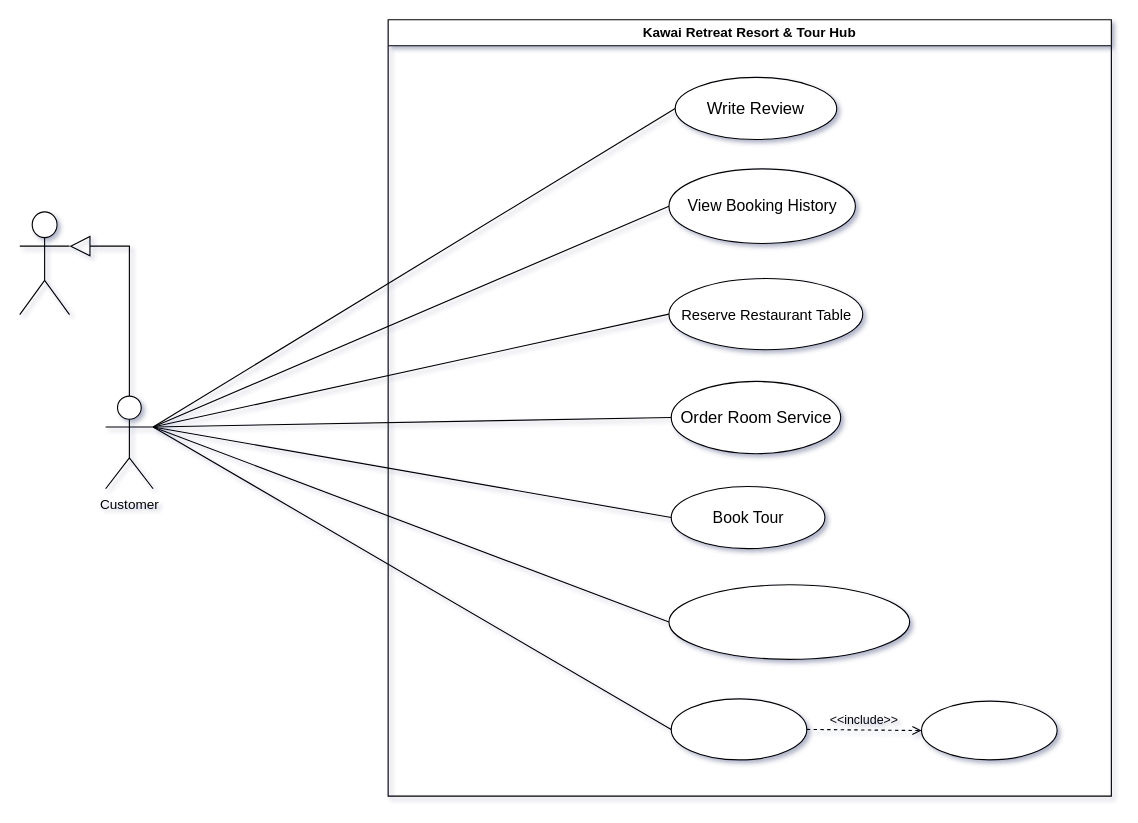
Some shapes in this 1138 by 823 pixel diagram are drawn without their labels. Here are the shapes that lost their labels. From the top down, the centre of each, then its label:
(44,263): User
(789,621): Request Information Deletion
(738,729): Book Room
(988,730): Make Payment
